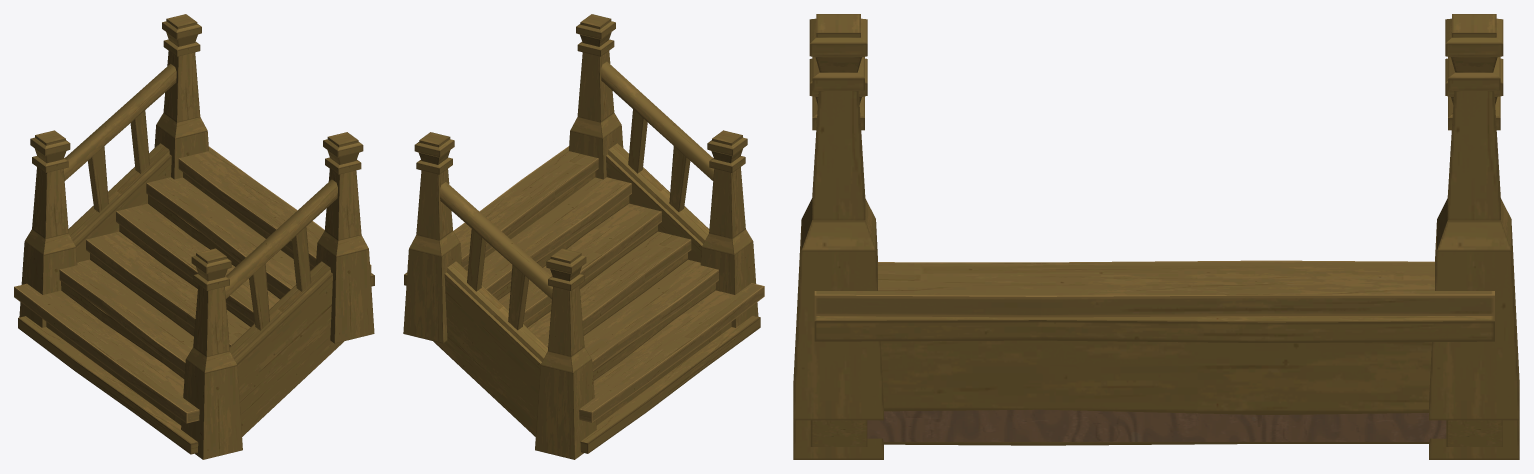
The model's file is SM_building_stairs_08.glb.
3 views of the same model, side by side, from view 1: azimuth 30°, elevation 25°; view 2: azimuth 150°, elevation 25°; view 3: azimuth 270°, elevation 25° (orthographic). The views are drawn at different scales.
Visible parts, largest first — view 1: SM_building_stairs_08; view 2: SM_building_stairs_08; view 3: SM_building_stairs_08.
Boxes of the visible parts, x1,y1,x2,y2 form: SM_building_stairs_08: (14, 14, 374, 459); SM_building_stairs_08: (403, 14, 764, 459); SM_building_stairs_08: (793, 14, 1519, 459).
Bounding box in the file's own units: 1.92 × 2.65 × 3.2.
3 materials, 3 textured.
